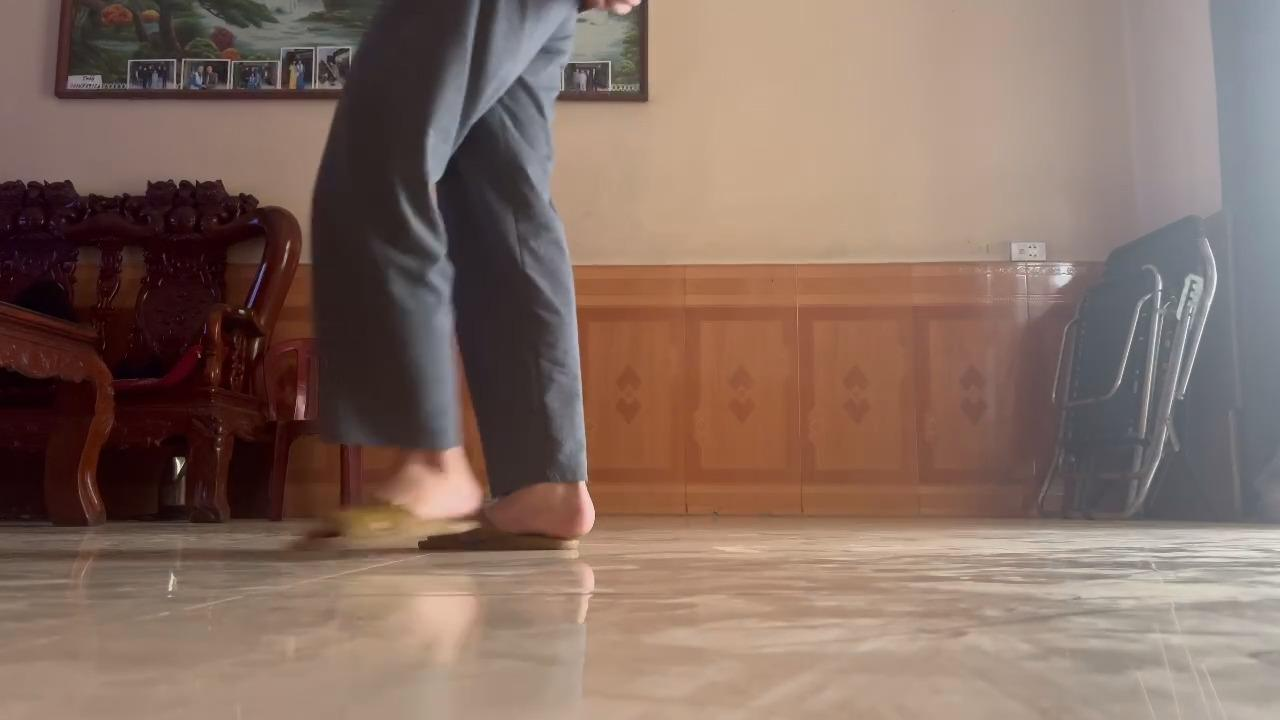no-boot: (288, 472, 489, 556), (411, 485, 609, 559)
